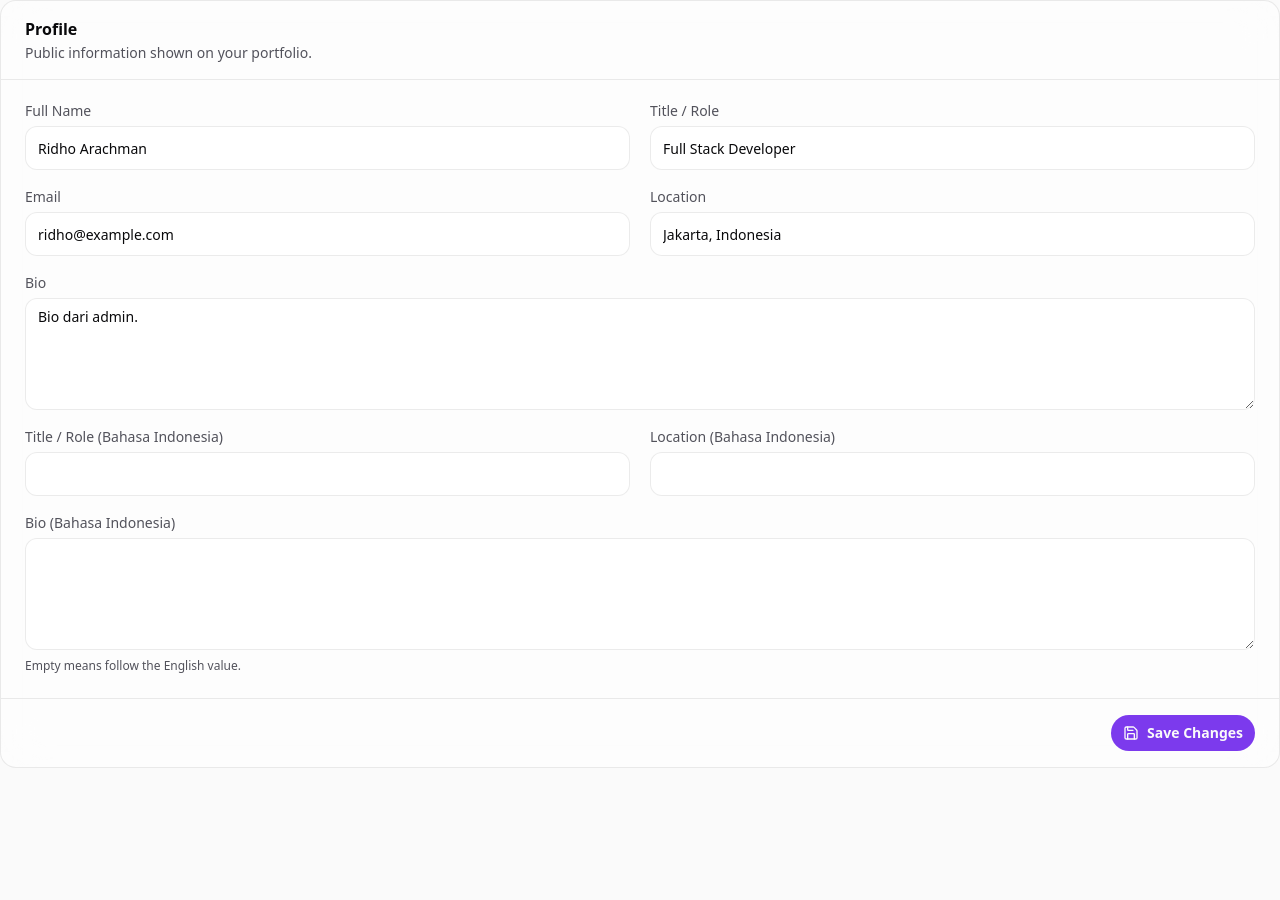
Test: ProfileForm › menampilkan indikator tersimpan lalu kembali ke Save saat diedit
Click the button "Save Changes".
click(1183, 733)  # box [1111,715,1255,751]
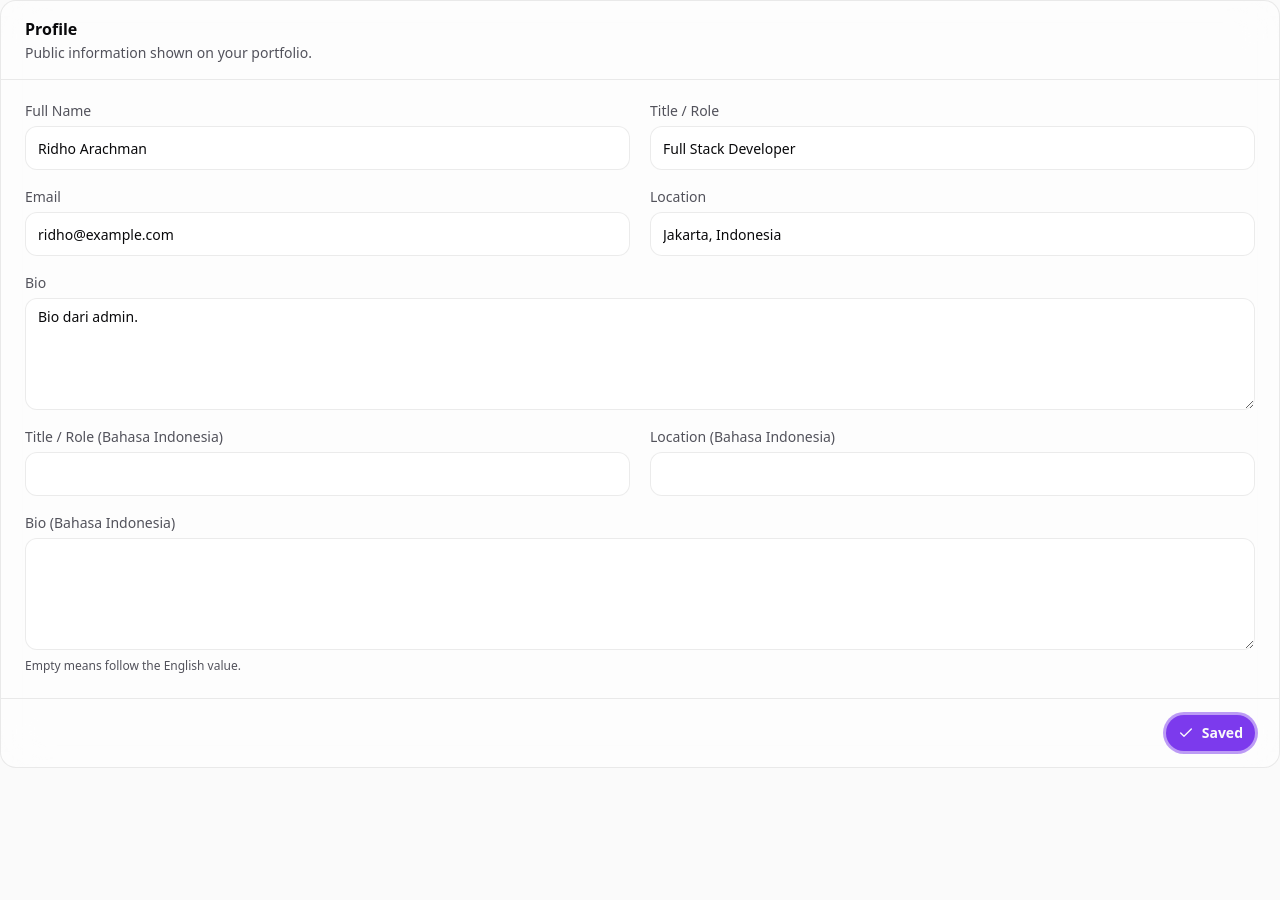
Expected: the button "Saved" is shown, [1166,715,1255,751]
Type " tambahan" into the text box labelled "Bio".
click(640, 354); type(" tambahan")  # box [25,298,1255,410]
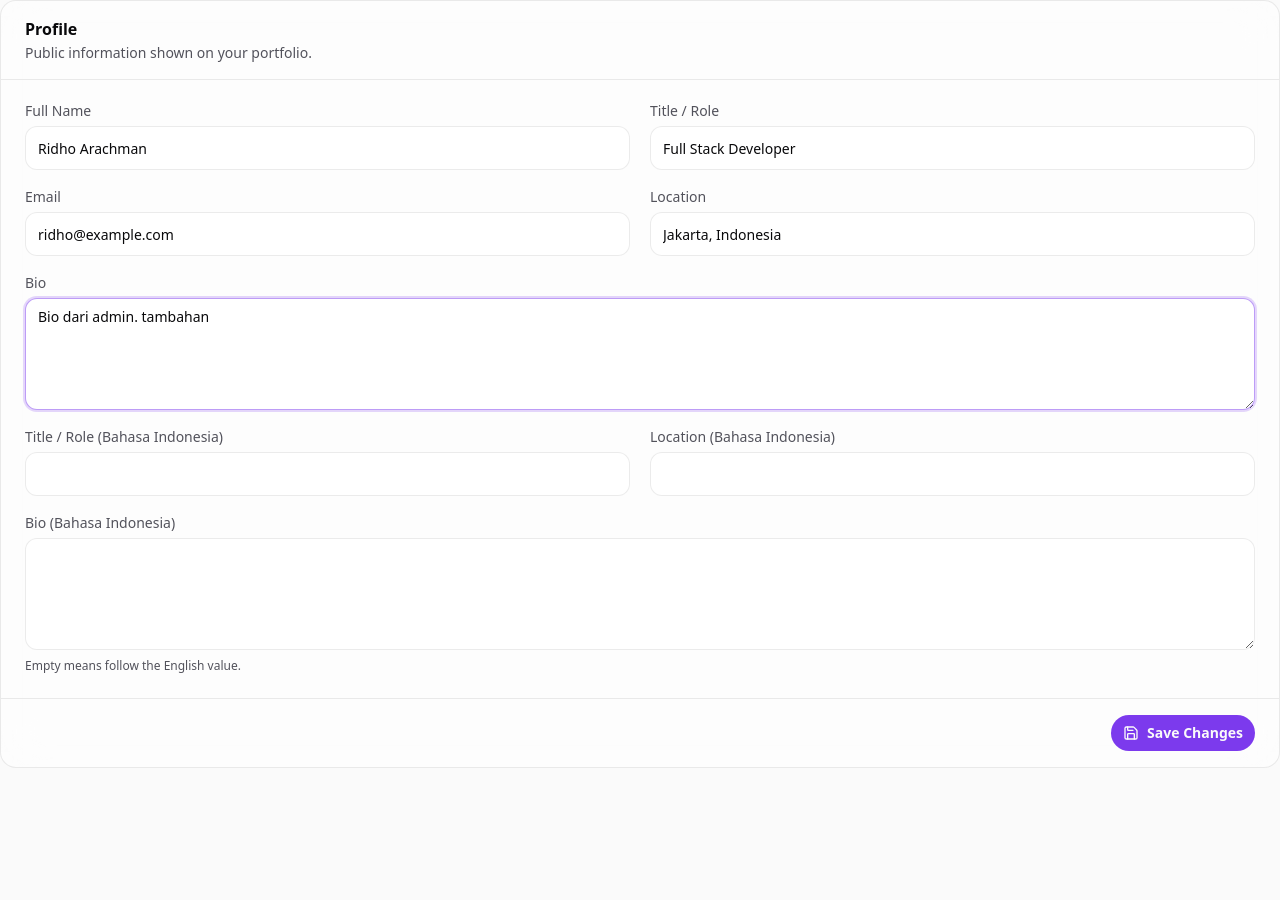
Expected: the button "Save Changes" is shown, [1111,715,1255,751]
